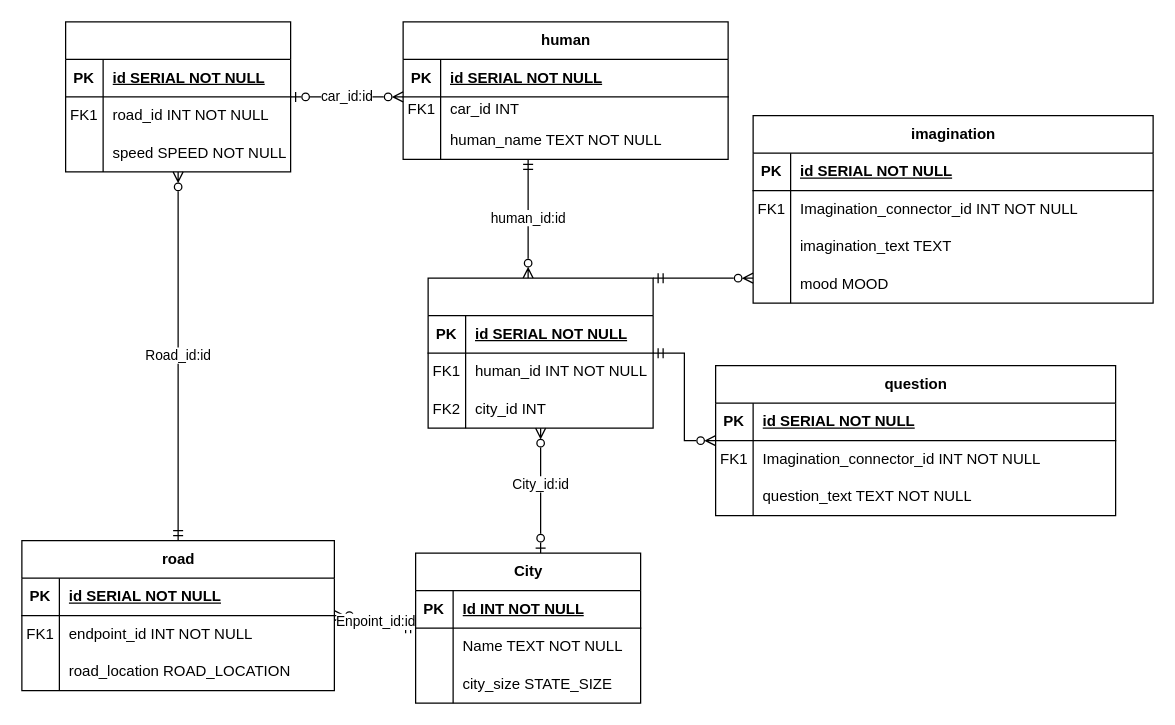
The diagram is 1175 pixels wide and 725 high, and some of its shapes have lost their labels. The shapes that lost their labels are listed below. From the top down, each one's box as (x1, y1, x2, y2) in pixels, then its label:
(64, 21, 291, 172): car
(427, 277, 653, 428): imagination_connector
